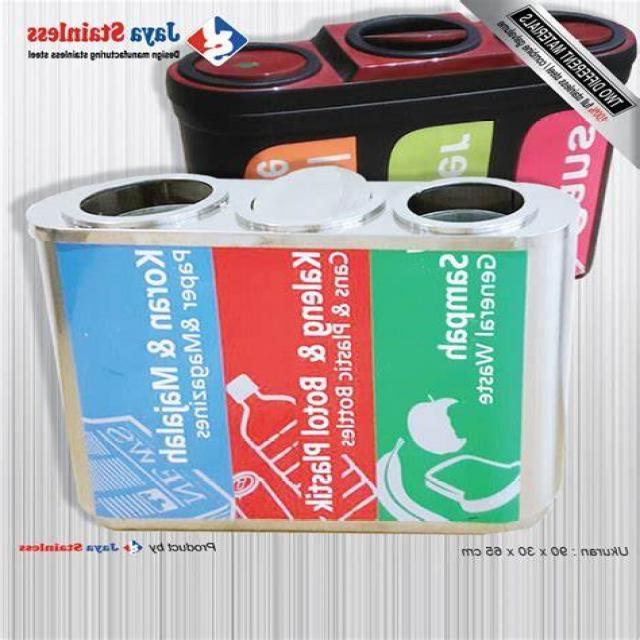garbage container: (0, 155, 584, 540), (160, 6, 632, 168)
